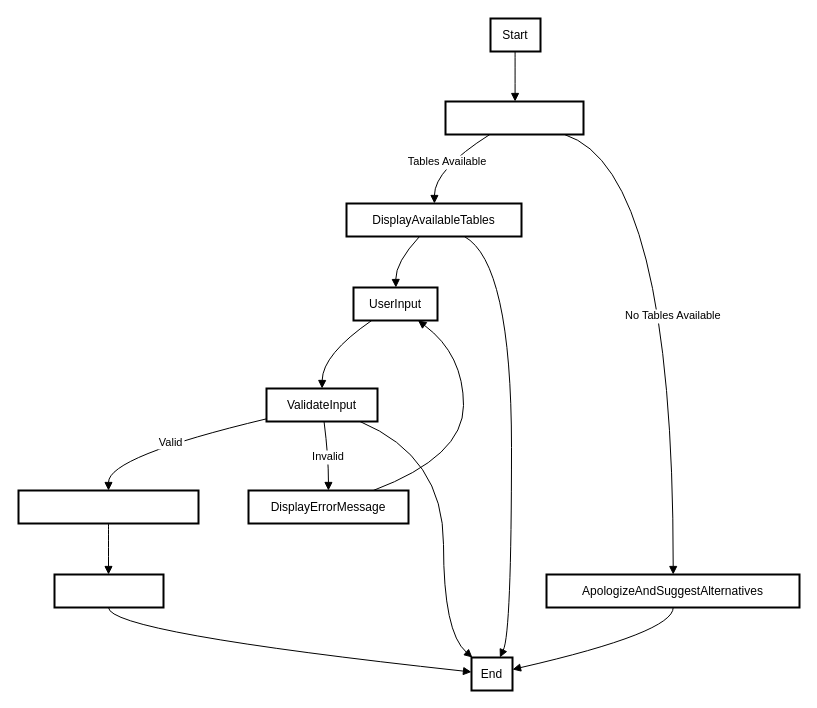
This 817x708 diagram has some shape labels left out. Here are the shapes that lost their labels. From the top down, the centre of each, then its label:
the point at 514,117: CheckAvailability
the point at 108,506: SaveReservationDetails
the point at 108,590: Confirmation
